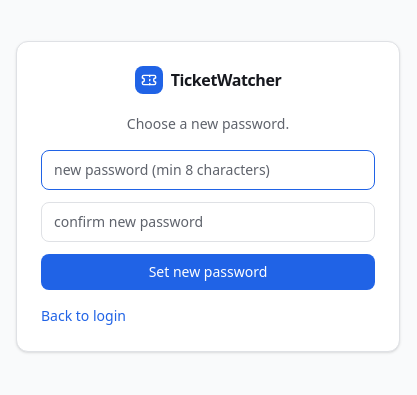
Test: ResetPassword › explains an expired or reused link in the server's own words
Type "brand-new-password" into the password field with placeholder "new password (min 8 characters)" at (208, 170), box x1=41 y1=150 x2=375 y2=190
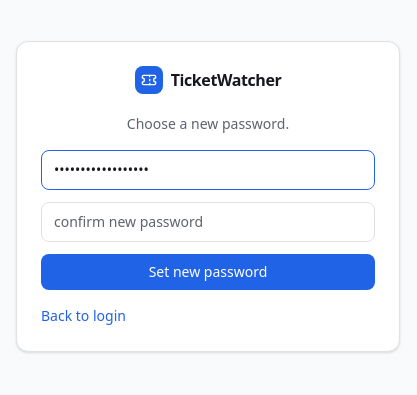
Type "brand-new-password" into the password field with placeholder "confirm new password" at (208, 222), box x1=41 y1=202 x2=375 y2=242
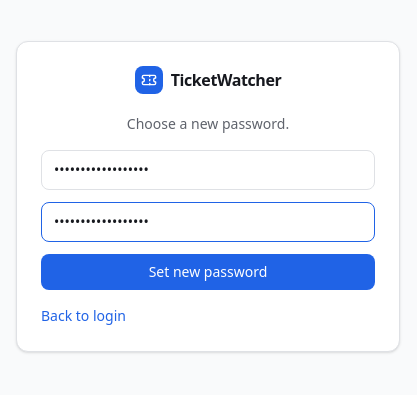
Click the button "Set new password" at (208, 272), box x1=41 y1=254 x2=375 y2=290
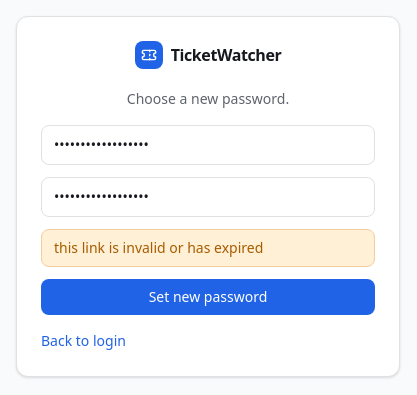
Check: the button "Set new password" is enabled, box x1=41 y1=278 x2=375 y2=314
Check: the text "this link is invalid or has expired" is shown, box x1=41 y1=228 x2=375 y2=266
